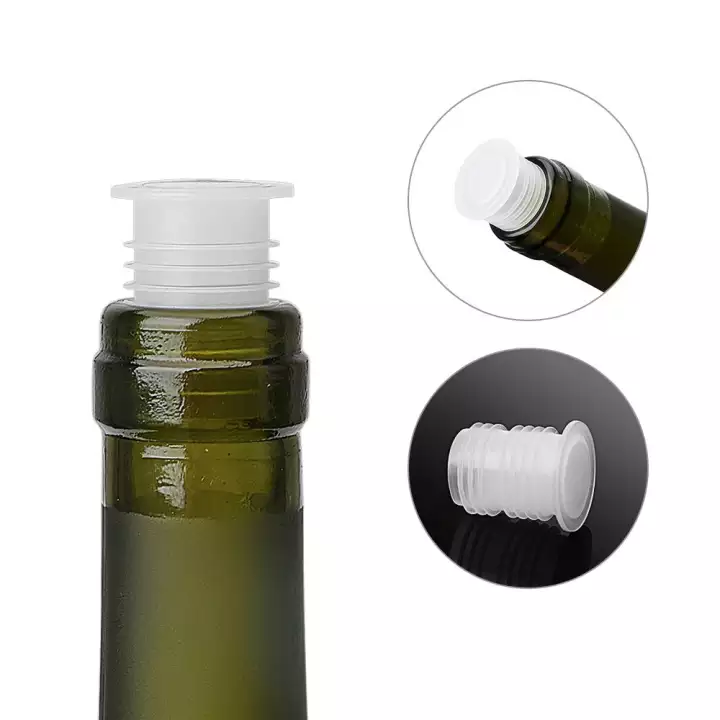glass_bottle: (89, 176, 313, 720)
